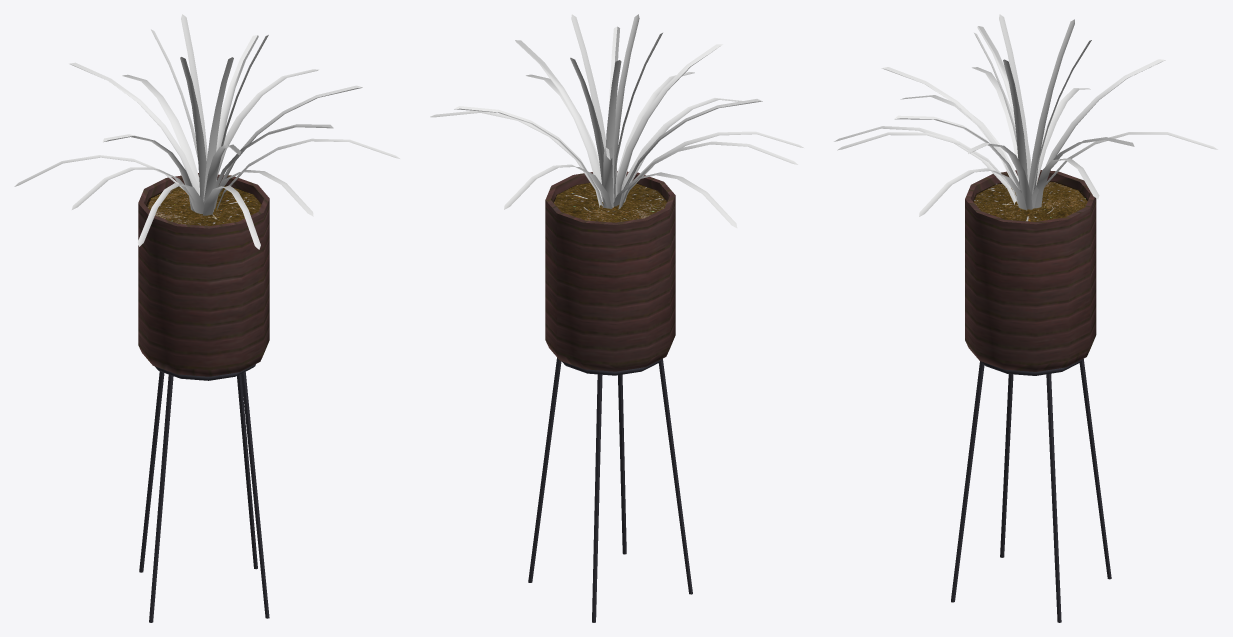
File: Plants_Pots_8.fbx
The picture shows the model from 3 angles, left to right: view 1: azimuth 30°, elevation 25°; view 2: azimuth 150°, elevation 25°; view 3: azimuth 270°, elevation 25°; orthographic projection.
Visible parts, largest first — view 1: Cylinder.014; view 2: Cylinder.014; view 3: Cylinder.014.
Boxes of the visible parts, left/top/right/bottom form: Cylinder.014: left=14, top=14, right=399, bottom=622; Cylinder.014: left=430, top=14, right=803, bottom=622; Cylinder.014: left=834, top=14, right=1217, bottom=622.
Size of the model in its own units: 87.66 by 151 by 94.5.
